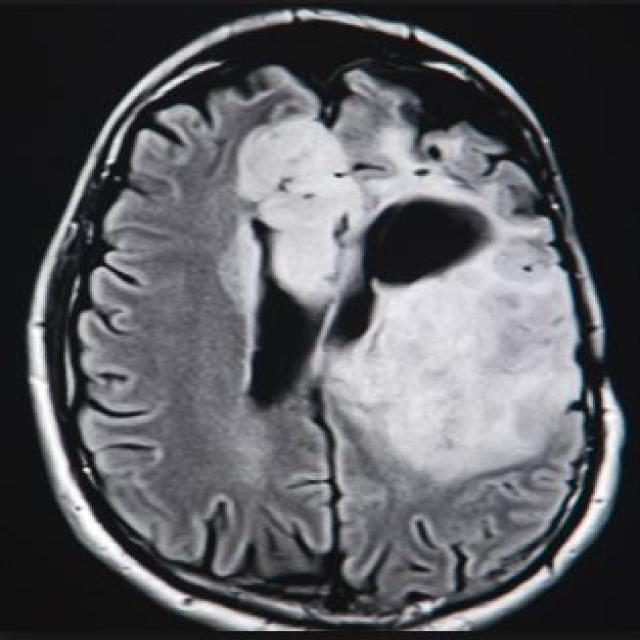tumor: (223, 105, 580, 477)
